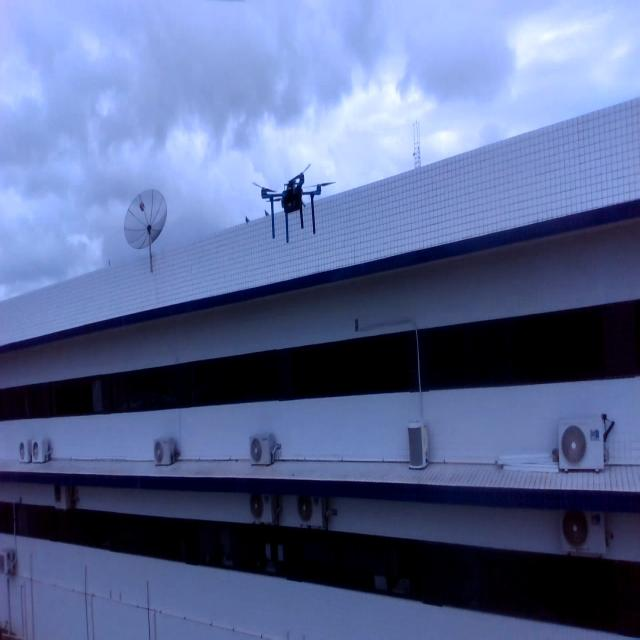-uav-: (246, 150, 340, 250)
